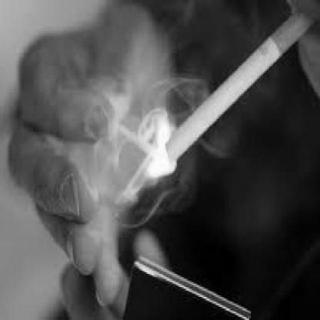Fire: (140, 104, 190, 184)
